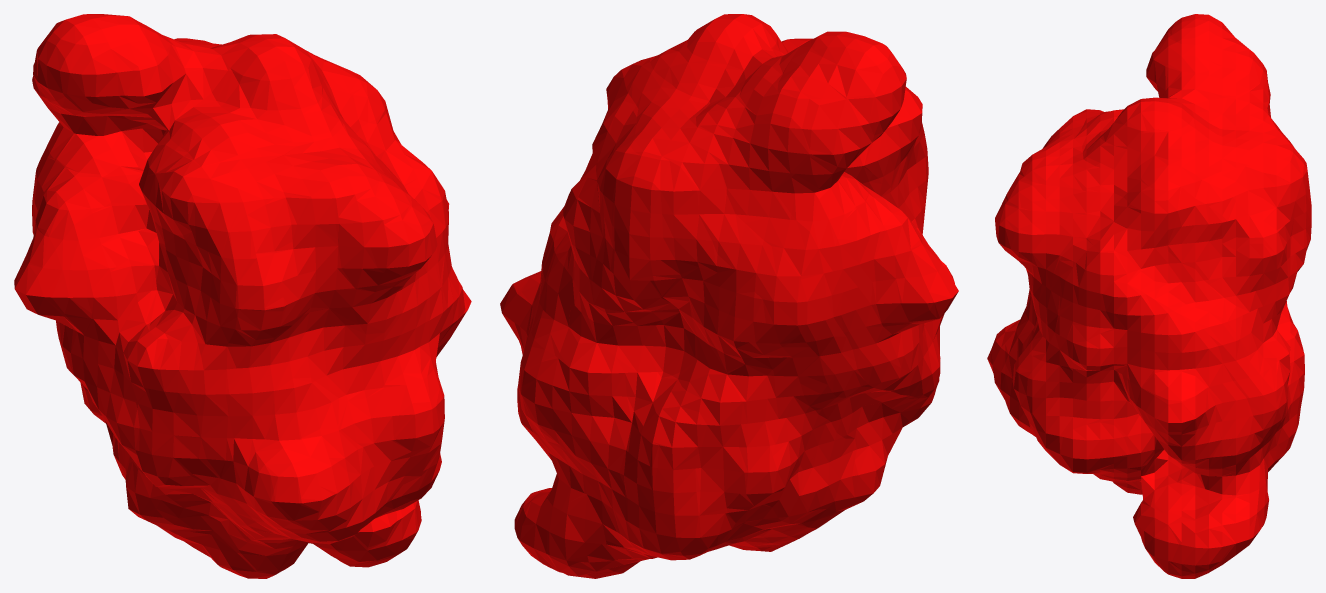
Rendered from tesB_coarse.dae.
3 renders of one model, left to right at view 1: azimuth 30°, elevation 25°; view 2: azimuth 150°, elevation 25°; view 3: azimuth 270°, elevation 25°, orthographic. The views are drawn at different scales.
Visible parts, largest first — view 1: tesB; view 2: tesB; view 3: tesB.
Part boxes in pixels (x1,y1,x2,y2): tesB: [14, 14, 471, 578]; tesB: [500, 14, 958, 578]; tesB: [987, 14, 1311, 578].
Size of the model in its own units: 67.24 by 86.21 by 55.73.
